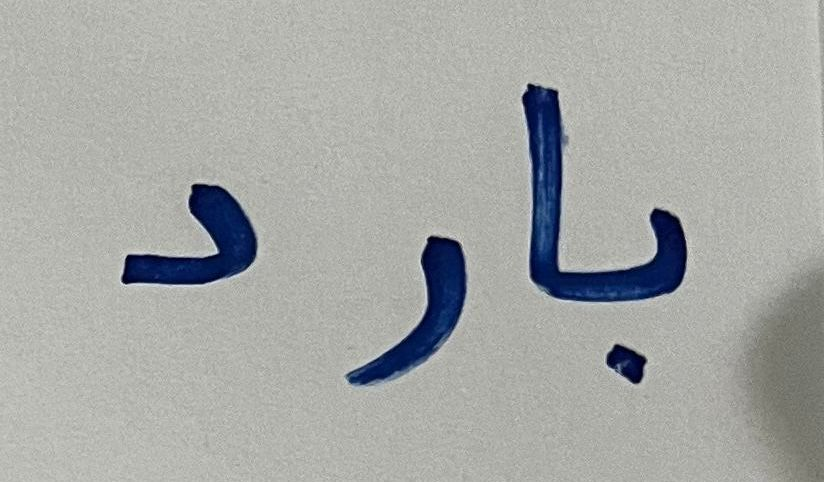alef: (496, 64, 576, 371)
beh: (582, 158, 736, 406)
dal: (77, 108, 303, 394)
reh: (311, 166, 487, 399)
